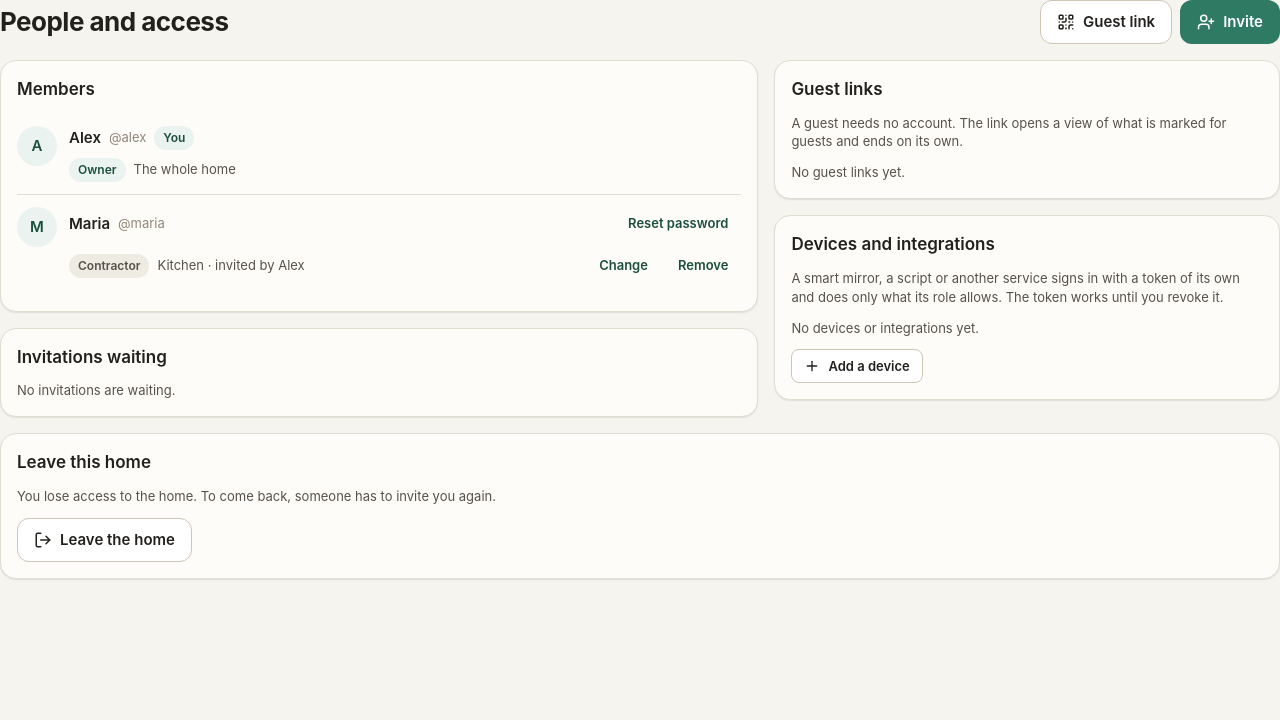
Scenario: PeoplePage › takes back a member's access after asking
This screenshot has width=1280, height=720.
Click the button "Remove" at (703, 266), box x1=665 y1=249 x2=741 y2=283
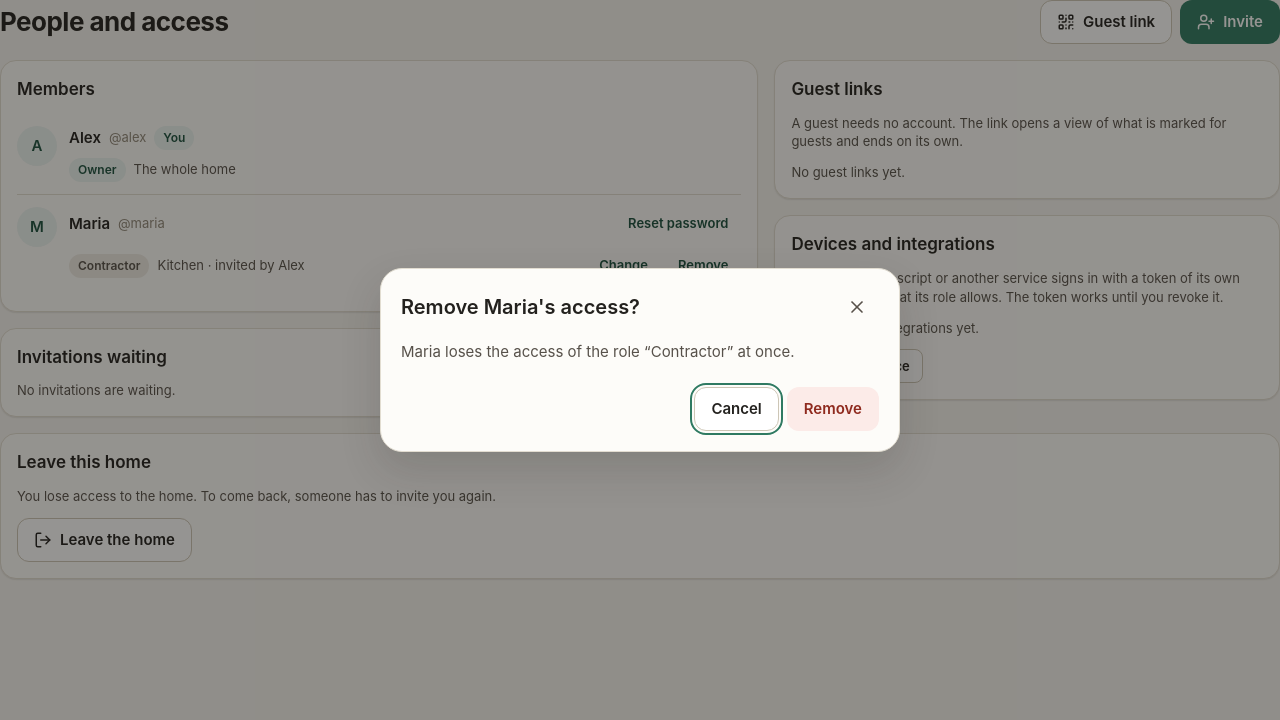
Click the button "Remove" at (833, 409), box x1=787 y1=387 x2=879 y2=431
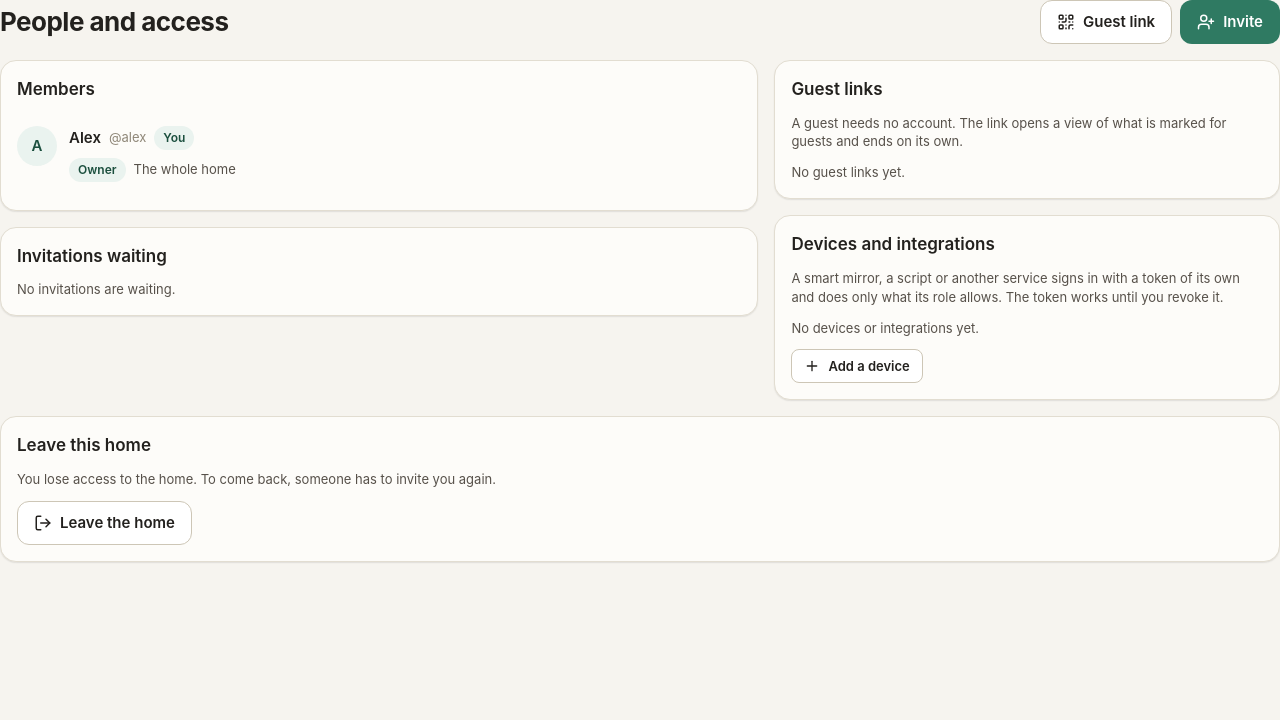
Expected: the text "maria" is gone
